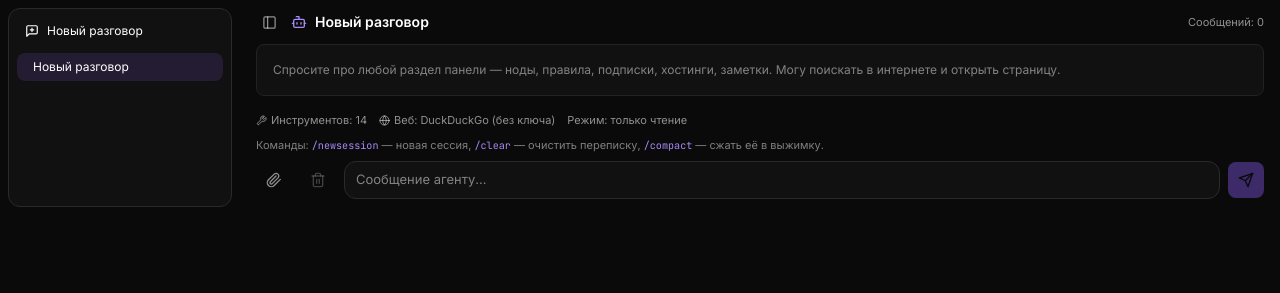
it: AiChat: markdown и безопасный HTML › **жирный**, *курсив* и `код` становятся тегами, а не звёздочками
The image size is (1280, 293).
Type "вопрос" into the field with placeholder "Сообщение агенту..." at (782, 180), box [344,161,1220,198]
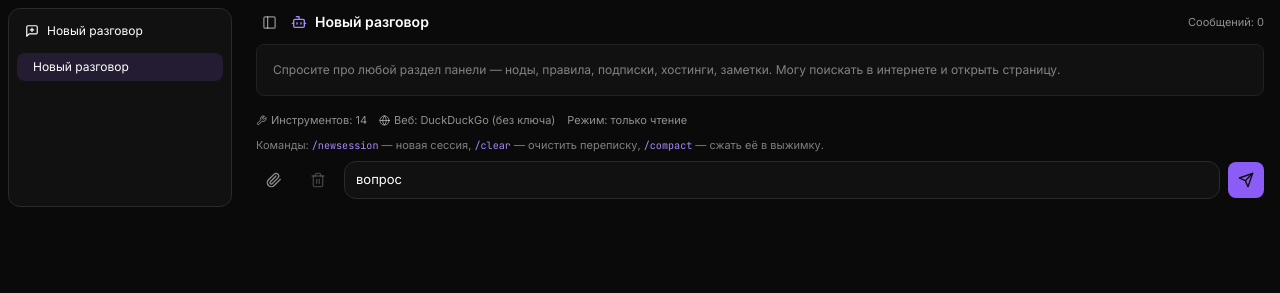
Press Enter in the field with placeholder "Сообщение агенту...", box [344,161,1220,198]
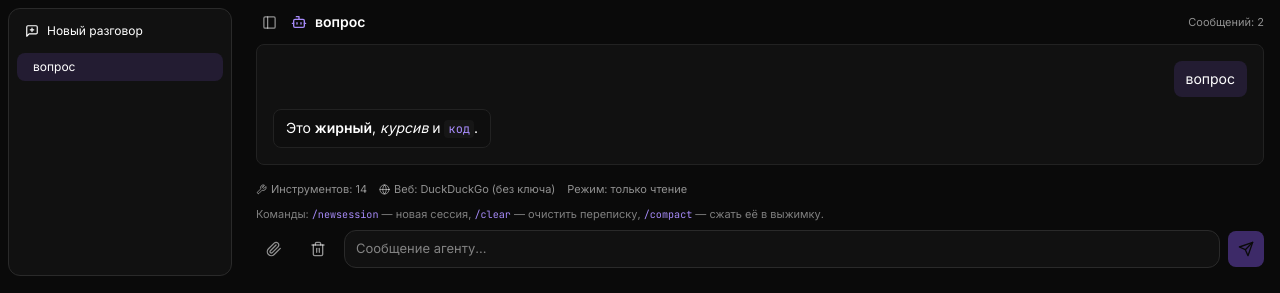
Check: the button titled "Очистить" is enabled, box [300,231,336,267]
Check: the text "жирный" is shown, box [315,119,372,136]
Check: the text "курсив" is shown, box [380,119,428,136]
